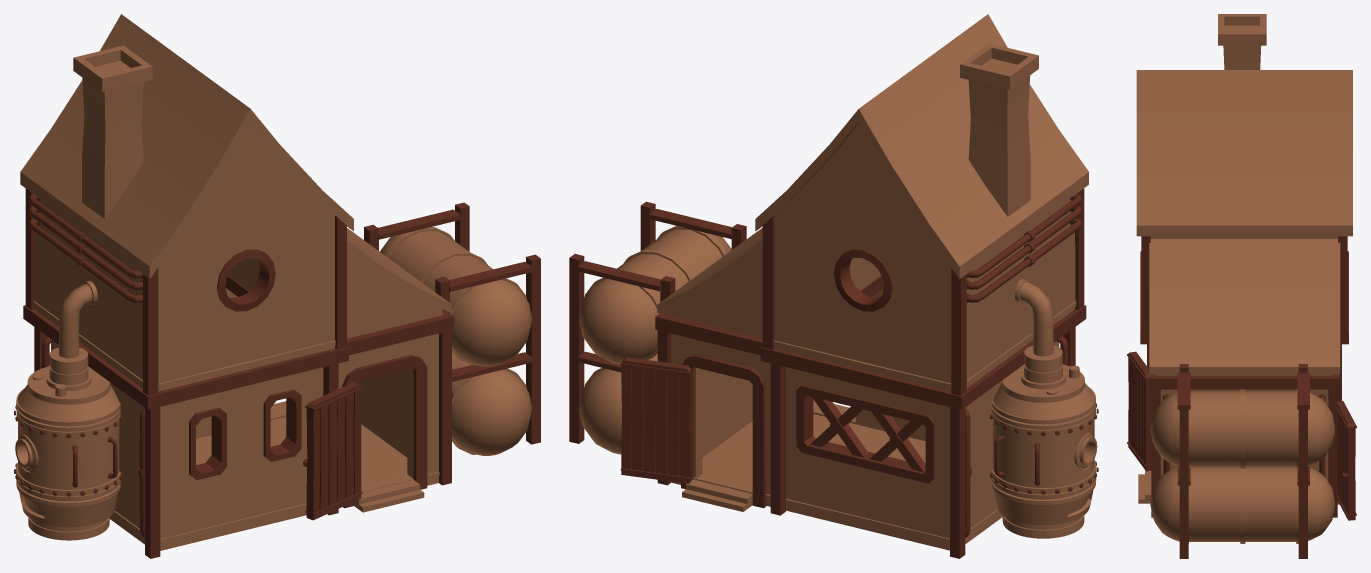
Rendered from House01_DoorsOpen_low.fbx.
3 views of the same model, side by side, from view 1: azimuth 30°, elevation 25°; view 2: azimuth 150°, elevation 25°; view 3: azimuth 270°, elevation 25° (orthographic). The views are drawn at different scales.
Parts seen in each view (by area): view 1: House_Low.004, House_Low.003; view 2: House_Low.004, House_Low.003; view 3: House_Low.004, House_Low.003.
Part boxes in pixels (x1,y1,x2,y2): House_Low.004: (15,14,532,550); House_Low.003: (14,188,540,558); House_Low.004: (579,14,1097,550); House_Low.003: (569,188,1098,558); House_Low.004: (1136,14,1352,543); House_Low.003: (1127,236,1356,558).
Bounding box in the file's own units: 8391 × 7498 × 4137.
